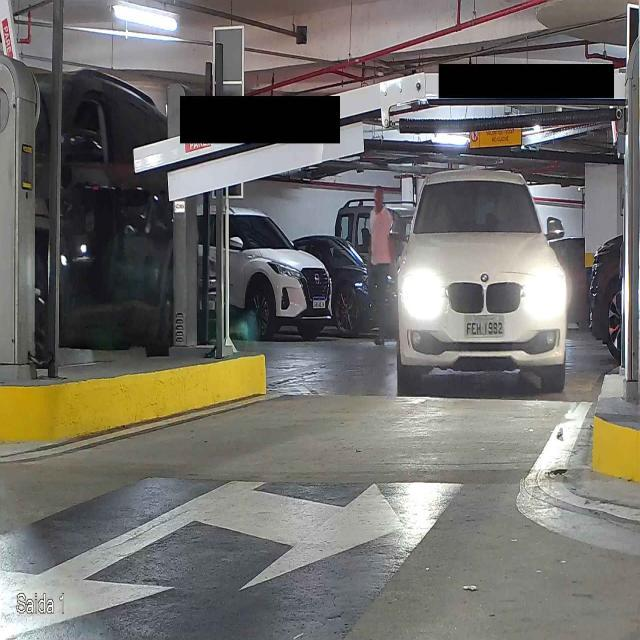old_plate: (461, 312, 507, 338)
